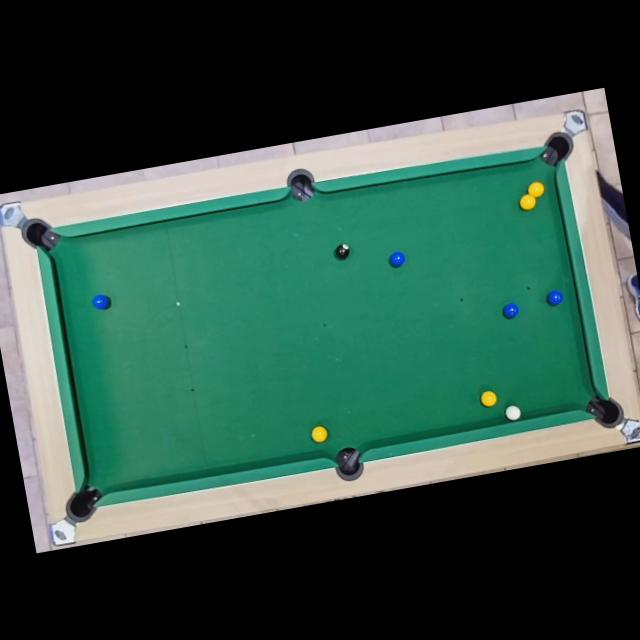Ball: (386, 250, 406, 270), (545, 288, 564, 308), (480, 389, 499, 408), (92, 294, 112, 312), (310, 424, 328, 444), (518, 193, 537, 211), (502, 302, 521, 320), (528, 182, 546, 200), (332, 242, 350, 260), (504, 404, 522, 422)
